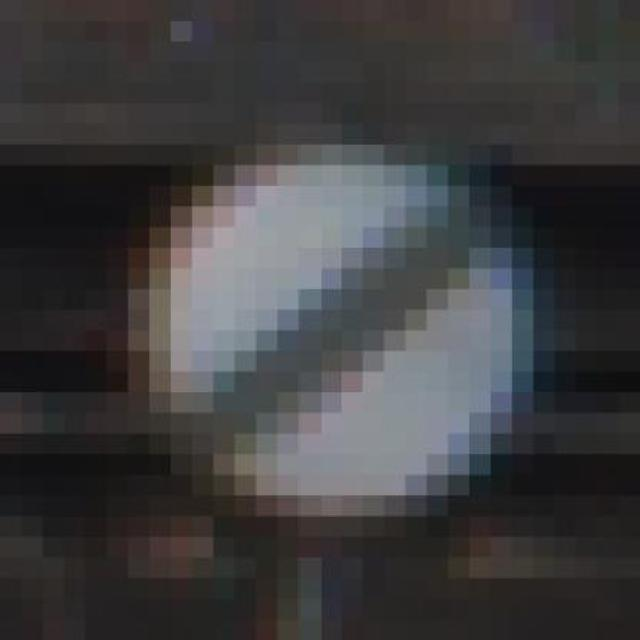End of all speed and passing limits: (107, 139, 555, 532)
